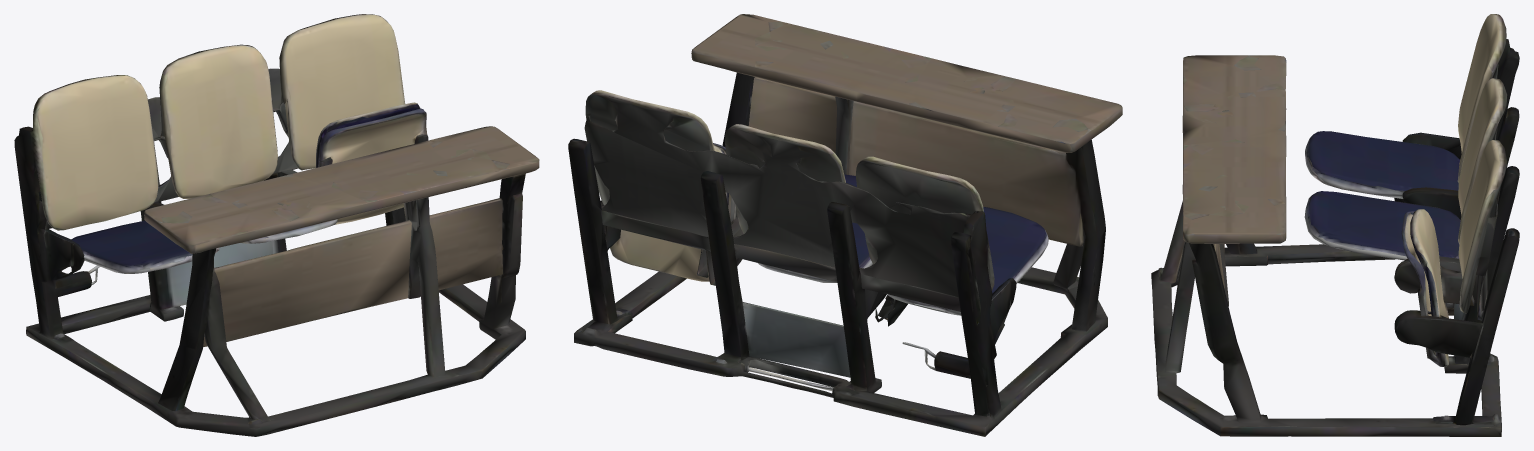
The model's file is lecture_seating_row.glb.
3 views of the same model, side by side, from view 1: azimuth 30°, elevation 25°; view 2: azimuth 150°, elevation 25°; view 3: azimuth 270°, elevation 25° (orthographic). The views are drawn at different scales.
Visible parts, largest first — view 1: geometry_0; view 2: geometry_0; view 3: geometry_0.
Boxes of the visible parts, x1=… form: geometry_0: x1=14, y1=14, x2=539, y2=436; geometry_0: x1=568, y1=14, x2=1122, y2=436; geometry_0: x1=1151, y1=14, x2=1519, y2=436.
Bounding box in the file's own units: 1 × 0.6072 × 0.8204.
Materials: 1 (1 with a texture image).
